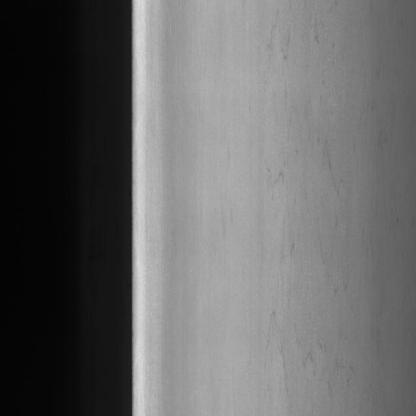silk_spot: (261, 25, 368, 388)
